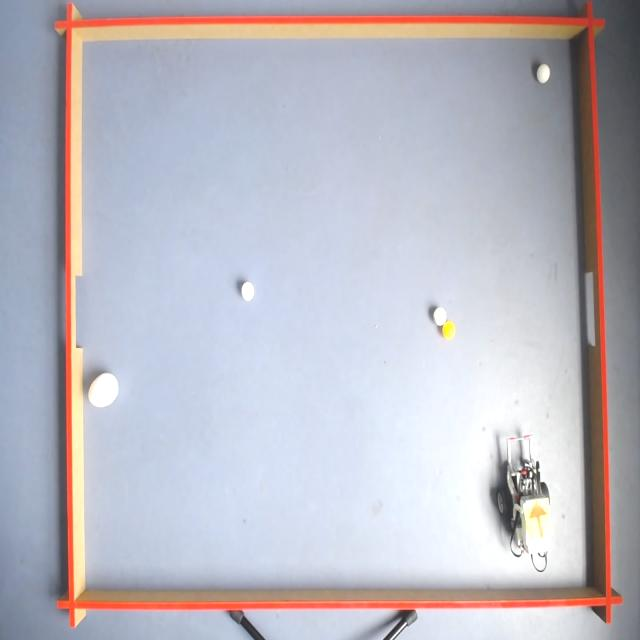corner: (590, 574, 624, 626), (573, 0, 607, 46), (54, 2, 83, 46), (58, 583, 86, 628)
